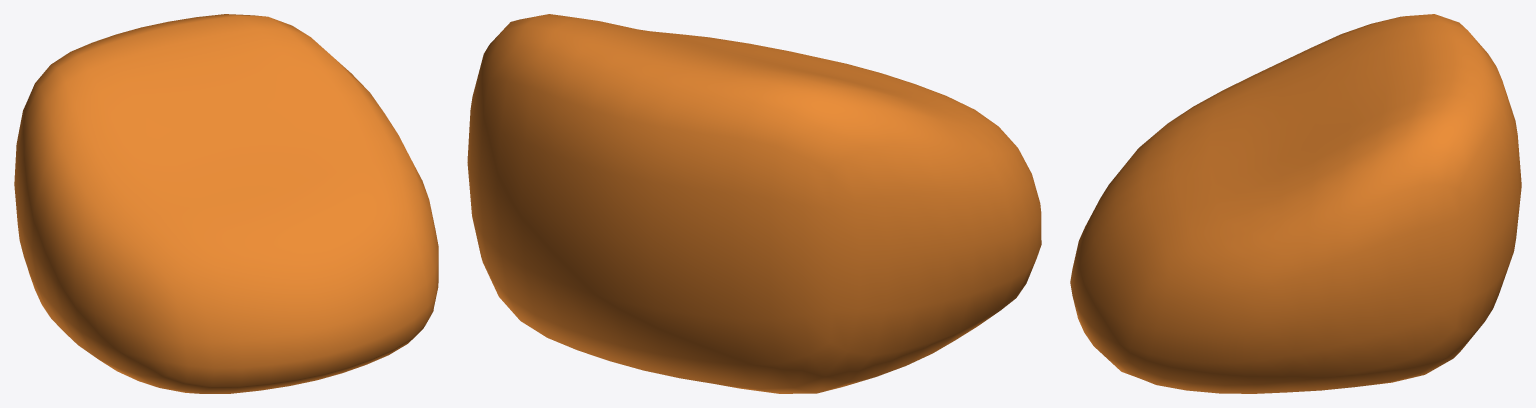
Rendered from Chair_3V.fbx.
3 views of the same model, side by side, from view 1: azimuth 30°, elevation 25°; view 2: azimuth 150°, elevation 25°; view 3: azimuth 270°, elevation 25° (orthographic). The views are drawn at different scales.
Parts seen in each view (by area): view 1: Chair_3V; view 2: Chair_3V; view 3: Chair_3V.
Boxes of the visible parts, bbox=[...] form: Chair_3V: bbox=[14, 14, 438, 393]; Chair_3V: bbox=[467, 14, 1041, 393]; Chair_3V: bbox=[1070, 14, 1521, 393].
Bounding box in the file's own units: 0.6901 × 0.4379 × 0.6776.
